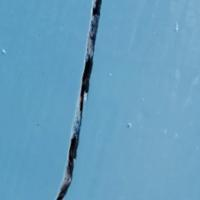crack: (49, 0, 111, 199)
